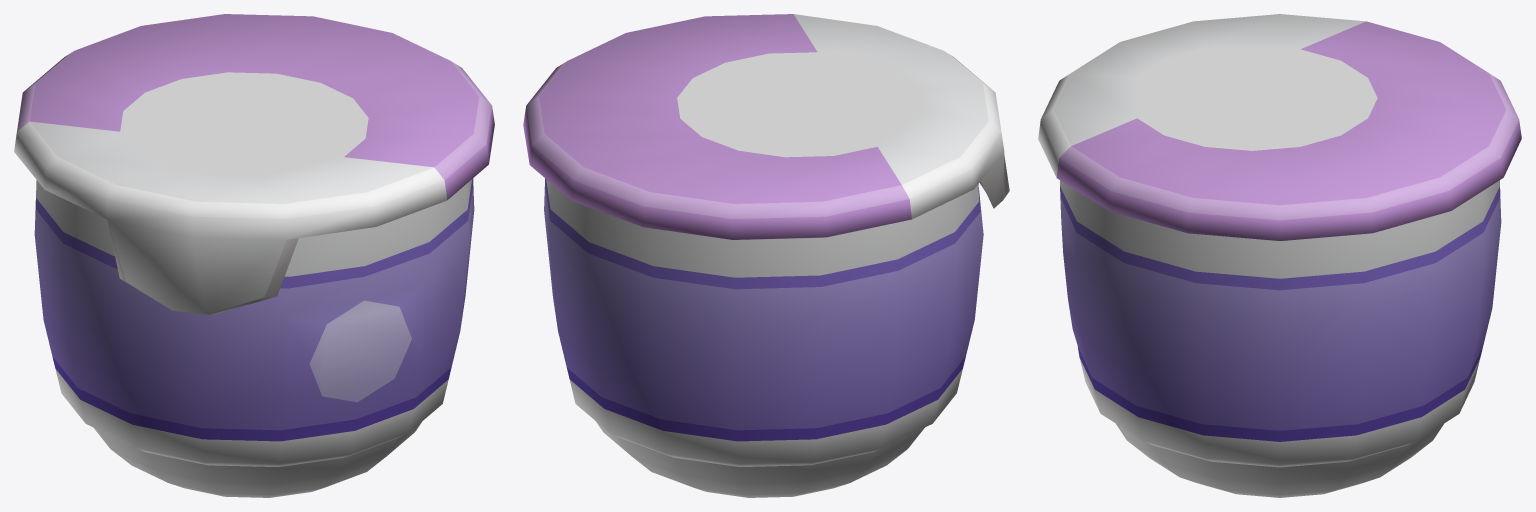
Rendered from sour_cream_003.fbx.
3 renders of one model, left to right at view 1: azimuth 30°, elevation 25°; view 2: azimuth 150°, elevation 25°; view 3: azimuth 270°, elevation 25°, orthographic.
Parts seen in each view (by area): view 1: sour_cream_003; view 2: sour_cream_003; view 3: sour_cream_003.
Part boxes in pixels (x1,y1,x2,y2): sour_cream_003: (14, 14, 494, 497); sour_cream_003: (523, 14, 1009, 497); sour_cream_003: (1038, 14, 1521, 497).
Bounding box in the file's own units: 7.62 × 7.62 × 5.91.
